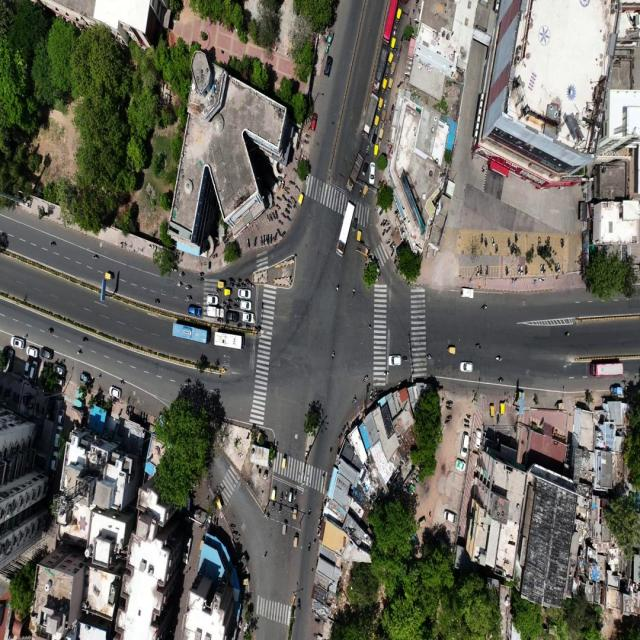3W: (278, 452, 290, 471), (445, 343, 457, 359), (214, 495, 224, 513), (291, 532, 300, 551), (488, 402, 497, 419), (280, 519, 288, 537), (270, 484, 278, 502), (104, 269, 114, 283), (297, 191, 305, 208), (292, 503, 299, 521), (388, 76, 394, 96), (390, 62, 398, 76), (356, 230, 363, 246), (362, 160, 368, 178), (373, 144, 380, 159), (363, 184, 370, 199), (352, 218, 359, 232), (500, 402, 506, 418), (382, 78, 388, 94), (217, 279, 226, 289), (223, 287, 233, 296), (390, 37, 396, 52), (387, 52, 393, 67), (374, 114, 380, 129), (378, 96, 383, 114), (397, 9, 403, 24), (379, 128, 385, 142), (371, 132, 376, 145)
Bus: (584, 353, 628, 381), (166, 321, 212, 346), (213, 331, 246, 353)
Cars: (458, 283, 477, 302), (8, 332, 26, 352), (49, 425, 66, 446), (460, 431, 470, 460), (386, 351, 403, 368), (323, 56, 335, 79), (443, 508, 459, 525), (186, 304, 203, 319), (458, 361, 476, 374), (49, 450, 58, 476), (30, 358, 39, 383), (52, 363, 67, 378), (26, 342, 39, 359), (40, 347, 55, 360), (204, 294, 220, 306), (310, 110, 318, 134), (236, 288, 252, 300), (109, 386, 123, 399), (56, 408, 67, 424), (369, 162, 376, 187), (241, 313, 257, 323), (240, 300, 253, 312), (226, 310, 240, 321), (22, 359, 30, 378), (289, 487, 293, 505)
LCV: (204, 306, 224, 319)
M2W: (49, 234, 58, 251), (89, 252, 101, 264), (45, 324, 55, 337), (304, 507, 313, 521), (81, 334, 91, 346), (494, 351, 503, 364), (474, 339, 482, 353), (479, 303, 490, 313), (497, 376, 506, 388), (563, 327, 571, 340), (246, 236, 252, 253), (424, 351, 433, 362), (184, 294, 195, 303), (116, 377, 128, 385), (280, 190, 288, 202), (504, 235, 511, 248), (334, 281, 341, 294), (305, 540, 312, 553), (559, 236, 565, 251), (279, 488, 285, 503), (350, 284, 356, 299), (253, 234, 258, 251), (484, 265, 490, 279), (269, 503, 276, 515), (331, 347, 337, 361), (363, 369, 369, 383), (352, 393, 359, 405), (153, 294, 160, 306), (74, 348, 83, 357), (275, 202, 283, 212), (514, 231, 520, 244), (443, 399, 455, 405), (464, 410, 473, 418), (504, 264, 510, 276), (277, 504, 283, 516), (198, 270, 207, 278), (284, 207, 292, 216), (294, 487, 299, 501), (265, 213, 270, 227), (392, 24, 397, 38), (537, 234, 543, 245), (490, 235, 495, 248), (462, 418, 471, 425), (402, 355, 409, 364), (178, 271, 187, 278), (176, 279, 183, 288), (289, 178, 296, 187), (244, 322, 251, 331), (496, 414, 501, 426), (445, 413, 455, 419), (524, 265, 529, 277), (479, 264, 483, 279), (284, 487, 288, 502), (313, 537, 319, 547), (259, 234, 263, 249), (278, 217, 284, 227), (365, 144, 370, 156), (357, 186, 362, 198), (385, 238, 391, 248), (517, 263, 521, 277), (186, 283, 193, 291), (236, 322, 243, 330), (444, 404, 453, 410), (462, 424, 471, 430), (97, 372, 103, 381), (197, 278, 206, 284), (236, 276, 242, 285), (245, 276, 251, 285), (384, 68, 390, 77), (383, 118, 389, 127), (475, 265, 479, 278), (543, 263, 547, 276), (265, 234, 269, 247), (539, 264, 544, 274), (368, 321, 373, 331), (381, 229, 386, 239), (386, 217, 391, 227), (215, 288, 222, 295), (225, 297, 232, 304), (445, 419, 453, 425), (480, 232, 484, 244), (495, 243, 499, 255), (521, 262, 524, 278), (270, 231, 273, 247), (290, 195, 296, 203), (397, 52, 401, 64), (380, 217, 386, 225), (390, 248, 395, 257), (229, 276, 235, 283), (230, 281, 236, 288), (272, 211, 276, 221), (250, 281, 255, 289), (383, 99, 387, 109), (234, 297, 240, 303), (220, 302, 226, 308)
Truck: (336, 201, 356, 261), (359, 93, 379, 142), (344, 149, 365, 192), (371, 45, 389, 95)
